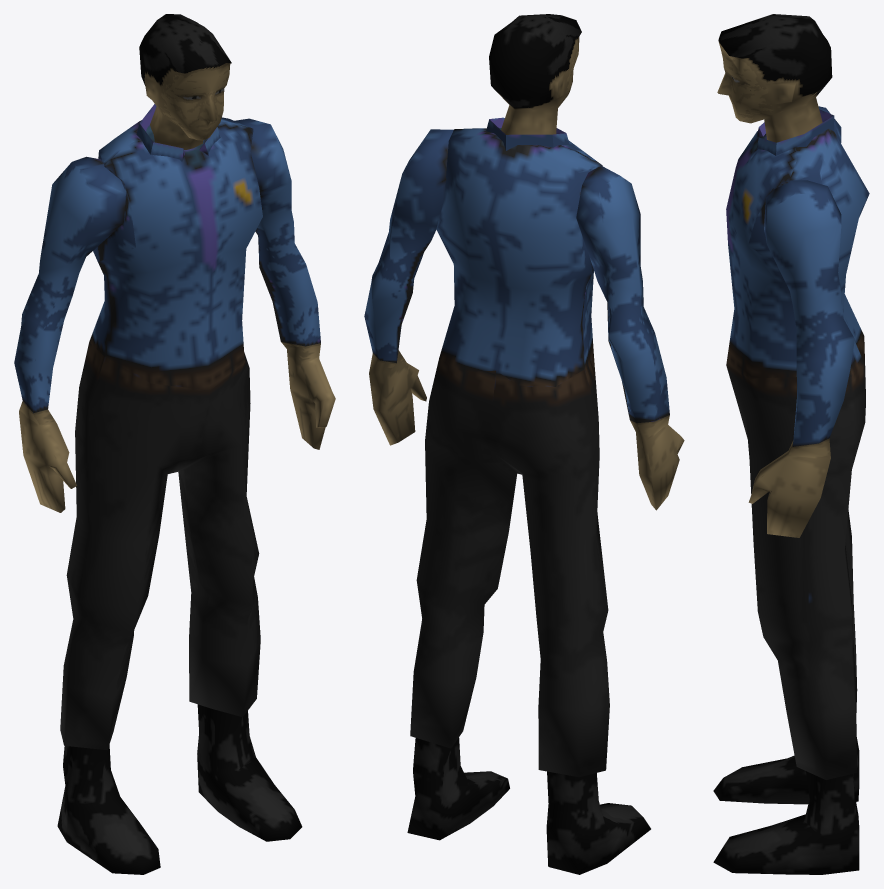
The model's file is characters - ensign.fbx.
3 views of the same model, side by side, from view 1: azimuth 30°, elevation 25°; view 2: azimuth 150°, elevation 25°; view 3: azimuth 270°, elevation 25° (orthographic).
Parts seen in each view (by area): view 1: Officer_terran_1.001; view 2: Officer_terran_1.001; view 3: Officer_terran_1.001.
Boxes of the visible parts, x1,y1,x2,y2 form: Officer_terran_1.001: [14, 14, 335, 874]; Officer_terran_1.001: [364, 14, 684, 874]; Officer_terran_1.001: [713, 14, 869, 874].
Size of the model in its own units: 72.37 by 190 by 33.3.
